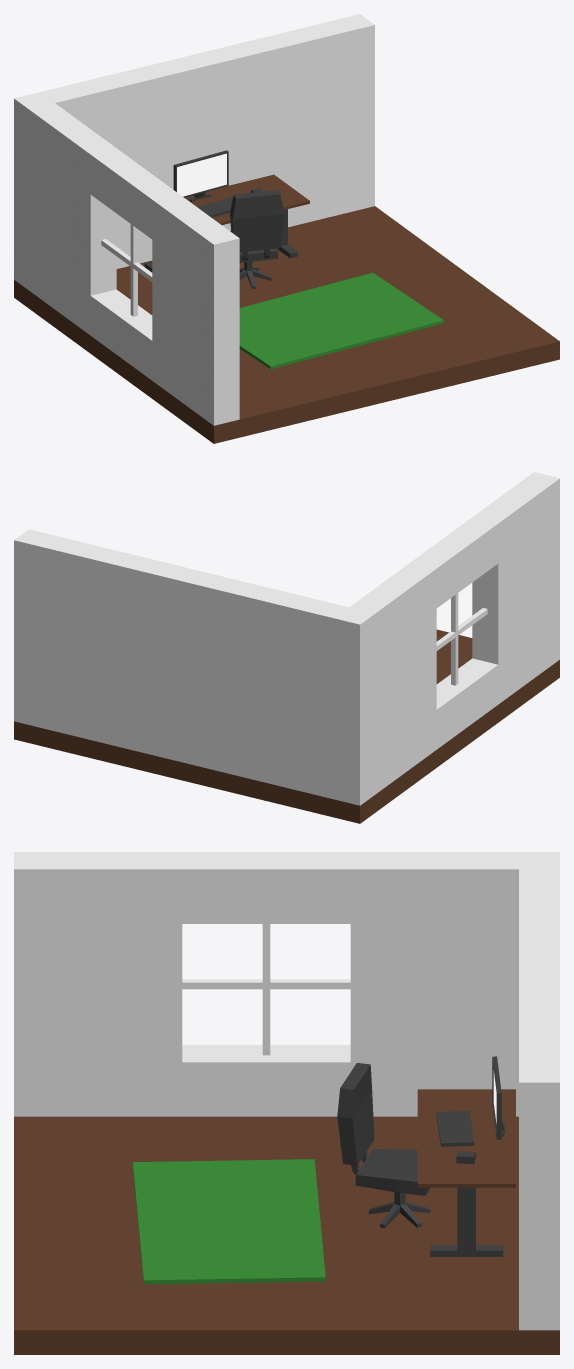
The model's file is room.gltf.
3 renders of one model, top to bottom at view 1: azimuth 30°, elevation 25°; view 2: azimuth 150°, elevation 25°; view 3: azimuth 270°, elevation 25°, orthographic. The views are drawn at different scales.
Visible parts, largest first — view 1: Plane, Cube.008, Cube.006, Cube.001, Cube.004, Cube; view 2: Plane, Cube; view 3: Plane, Cube.008, Cube.001, Cube.006, Cube, Cube.005, Cube.002, Cylinder, Cube.004.
Part boxes in pixels (x1,y1,x2,y2): Plane: (14,14,559,443); Cube.008: (239,272,443,369); Cube.006: (230,190,284,252); Cube.001: (144,174,309,272); Cube.004: (173,150,228,201); Cube: (101,224,152,316); Plane: (14,472,559,823); Cube: (436,593,487,685); Plane: (14,852,559,1354); Cube.008: (132,1159,325,1284); Cube.001: (417,1089,515,1256); Cube.006: (337,1063,374,1165); Cube: (182,924,350,1055); Cube.005: (355,1149,430,1195); Cube.002: (436,1111,474,1146); Cylinder: (368,1192,430,1228); Cube.004: (492,1056,504,1139).
Bounding box in the file's own units: 6 × 3.3 × 6.
